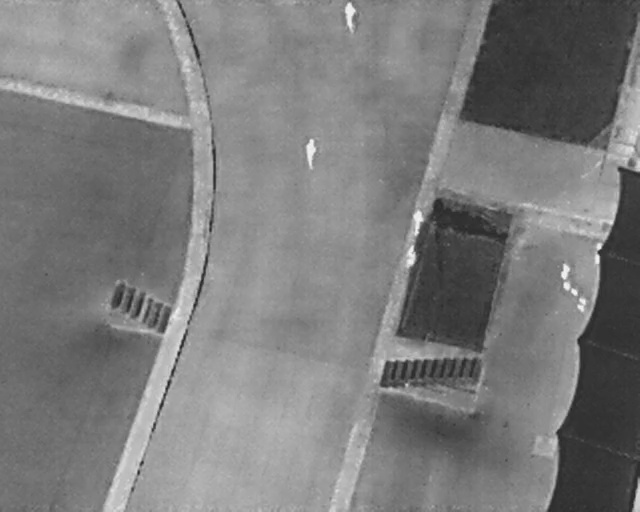Person: (341, 0, 358, 35), (411, 206, 425, 236), (306, 137, 317, 168), (404, 243, 416, 269)
